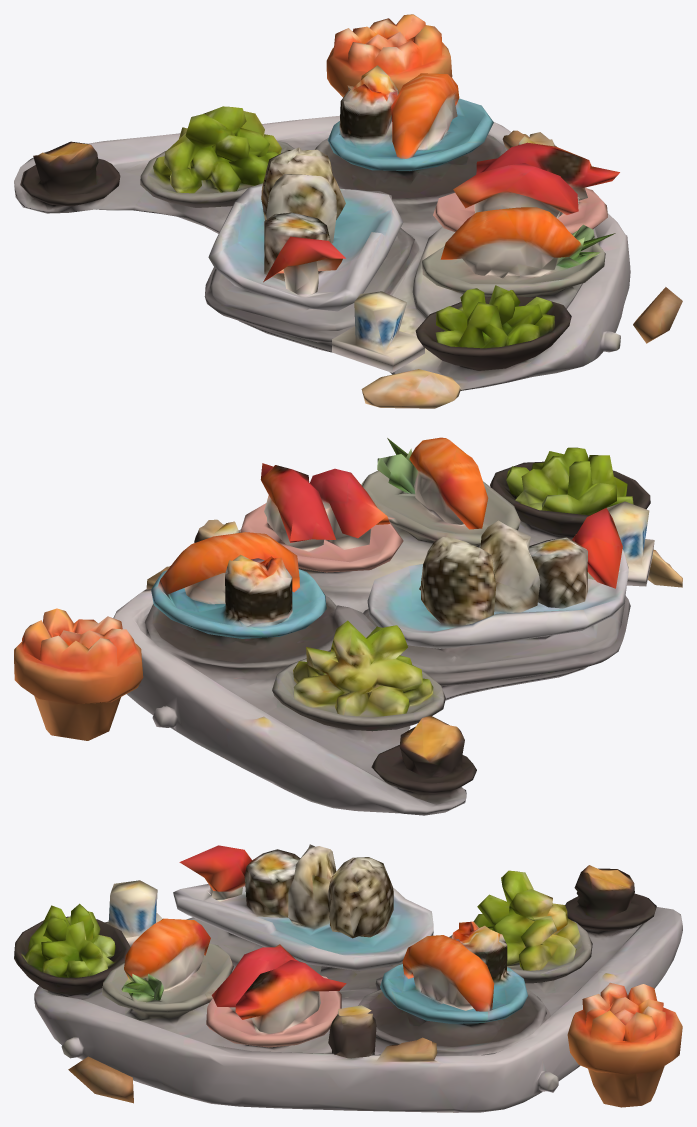
Rendered from sushi_plates.glb.
The picture shows the model from 3 angles, top to bottom: view 1: azimuth 30°, elevation 25°; view 2: azimuth 150°, elevation 25°; view 3: azimuth 270°, elevation 25°; orthographic projection. The views are drawn at different scales.
Parts seen in each view (by area): view 1: tripo_node_7223c6b8-9425-412e-94f2-88ea5312235a; view 2: tripo_node_7223c6b8-9425-412e-94f2-88ea5312235a; view 3: tripo_node_7223c6b8-9425-412e-94f2-88ea5312235a.
Boxes of the visible parts, <box> form: tripo_node_7223c6b8-9425-412e-94f2-88ea5312235a: <box>14,14,682,408</box>; tripo_node_7223c6b8-9425-412e-94f2-88ea5312235a: <box>14,437,682,815</box>; tripo_node_7223c6b8-9425-412e-94f2-88ea5312235a: <box>14,844,682,1112</box>.
Size of the model in its own units: 0.4188 by 0.1283 by 0.6.
Materials: 1 (1 with a texture image).
